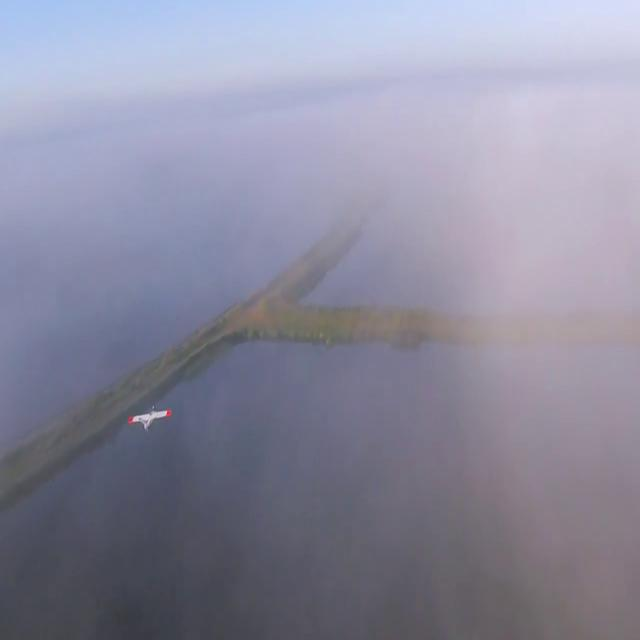iha: (125, 405, 173, 431)
